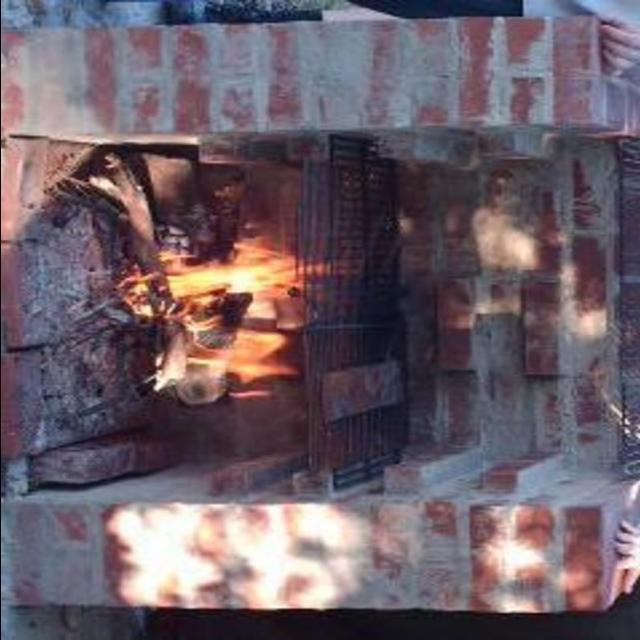Fire: (111, 236, 301, 396)
